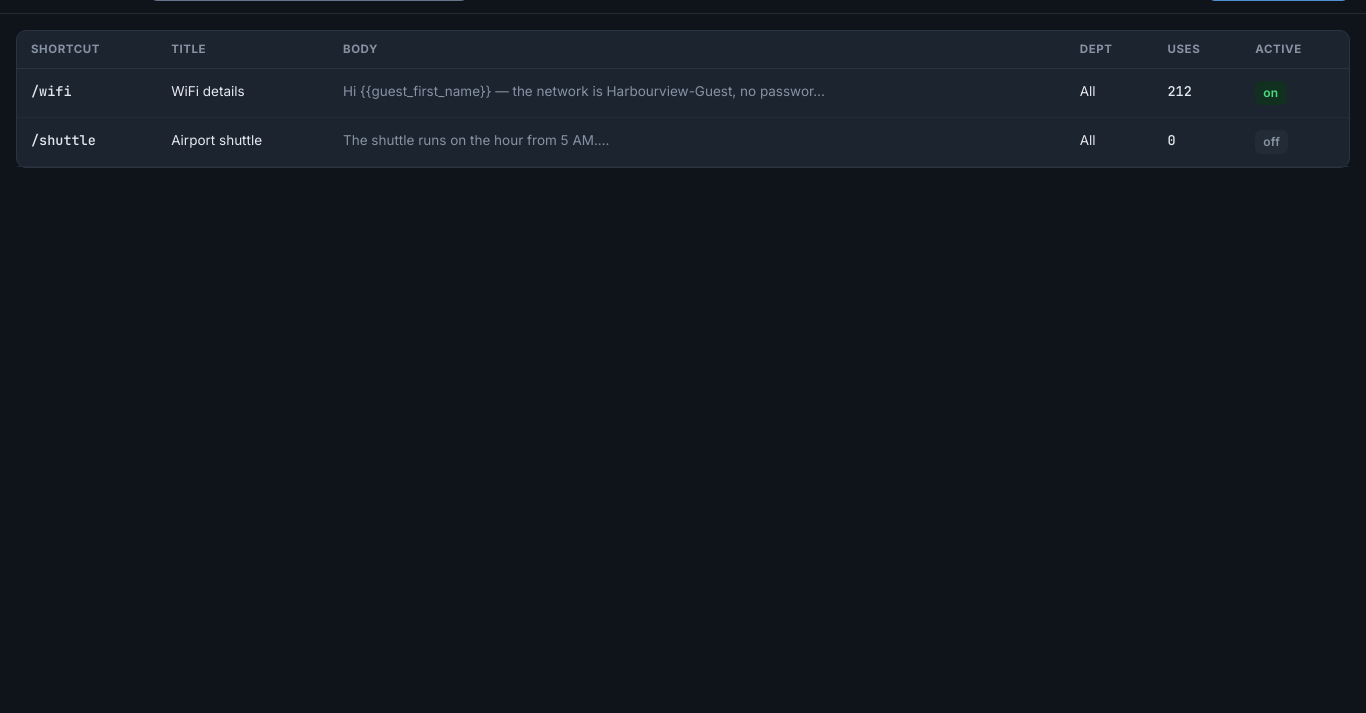
Test case: QuickRepliesAdmin › backs out of a delete on Keep
Click the text "WiFi details": (243, 93) [157,69,329,118]
(page scrolled)
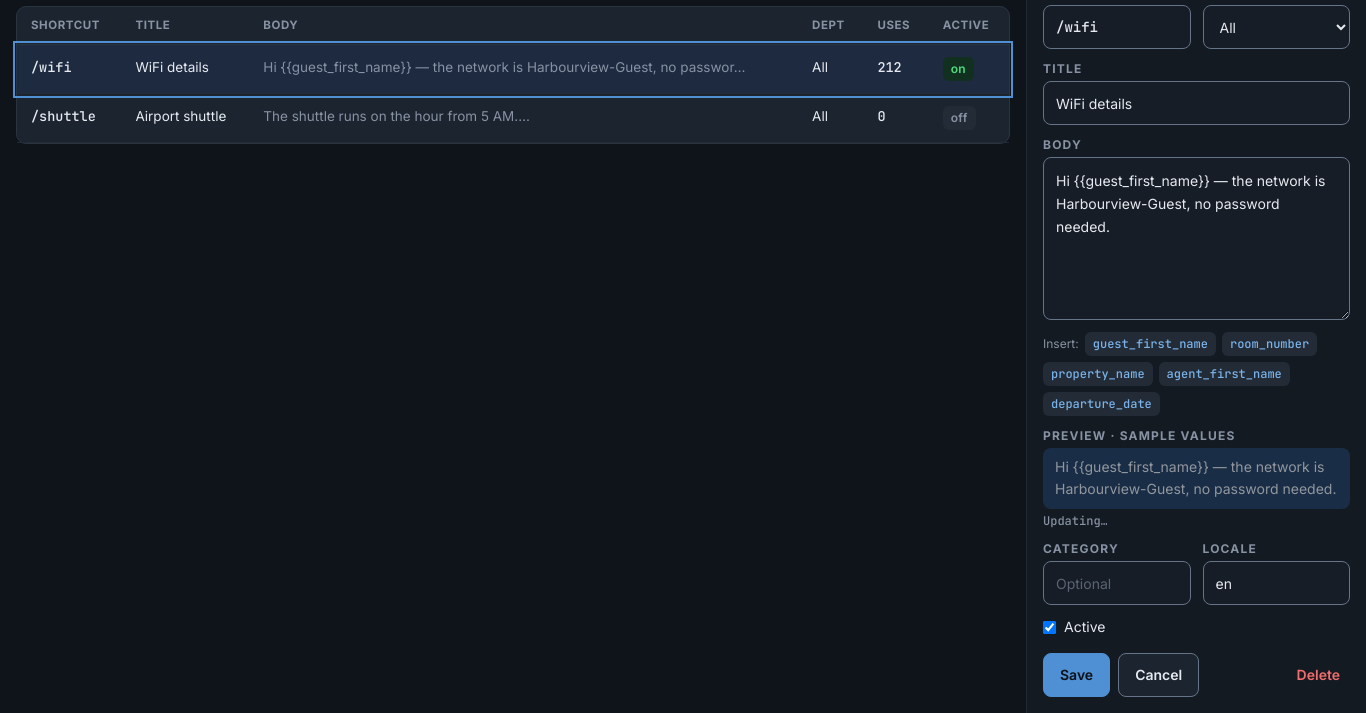
Click the button "Delete": (1318, 675) [1287,653,1350,697]
(page scrolled)
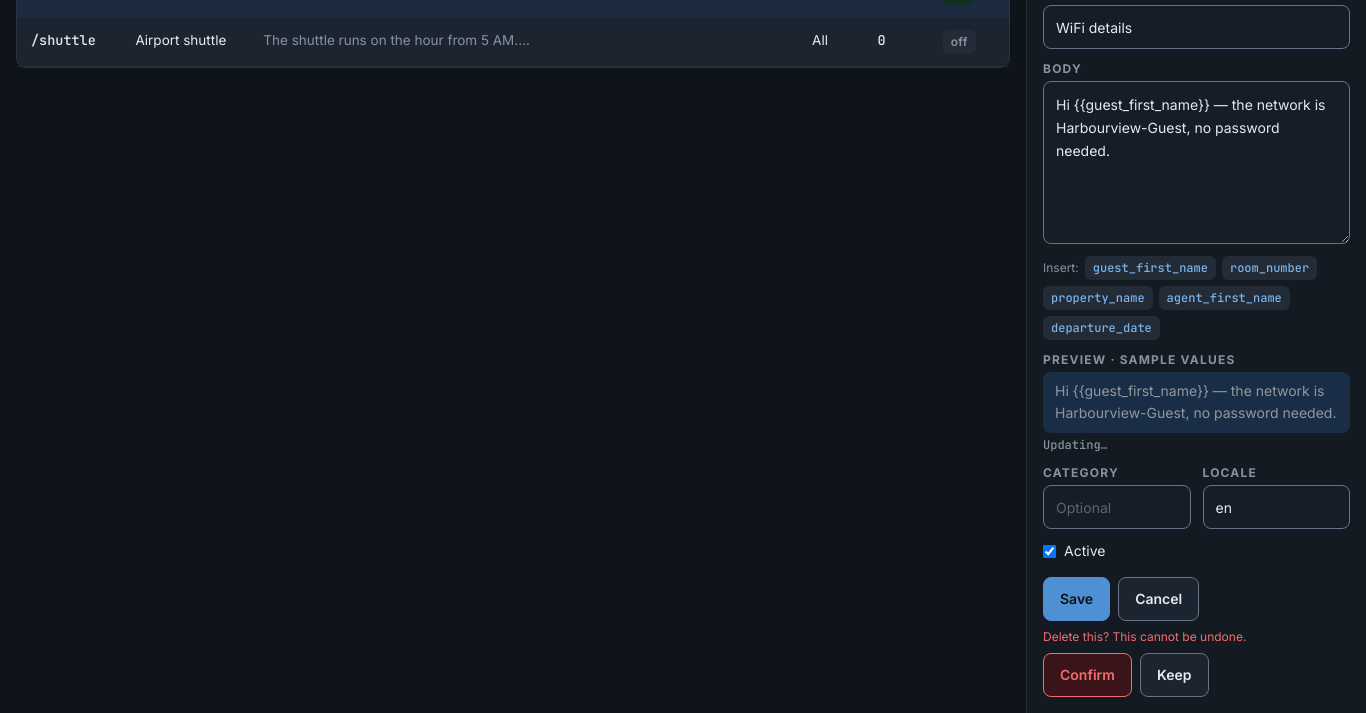
Click the button "Keep": (1174, 675) [1140,653,1208,697]
(page scrolled)
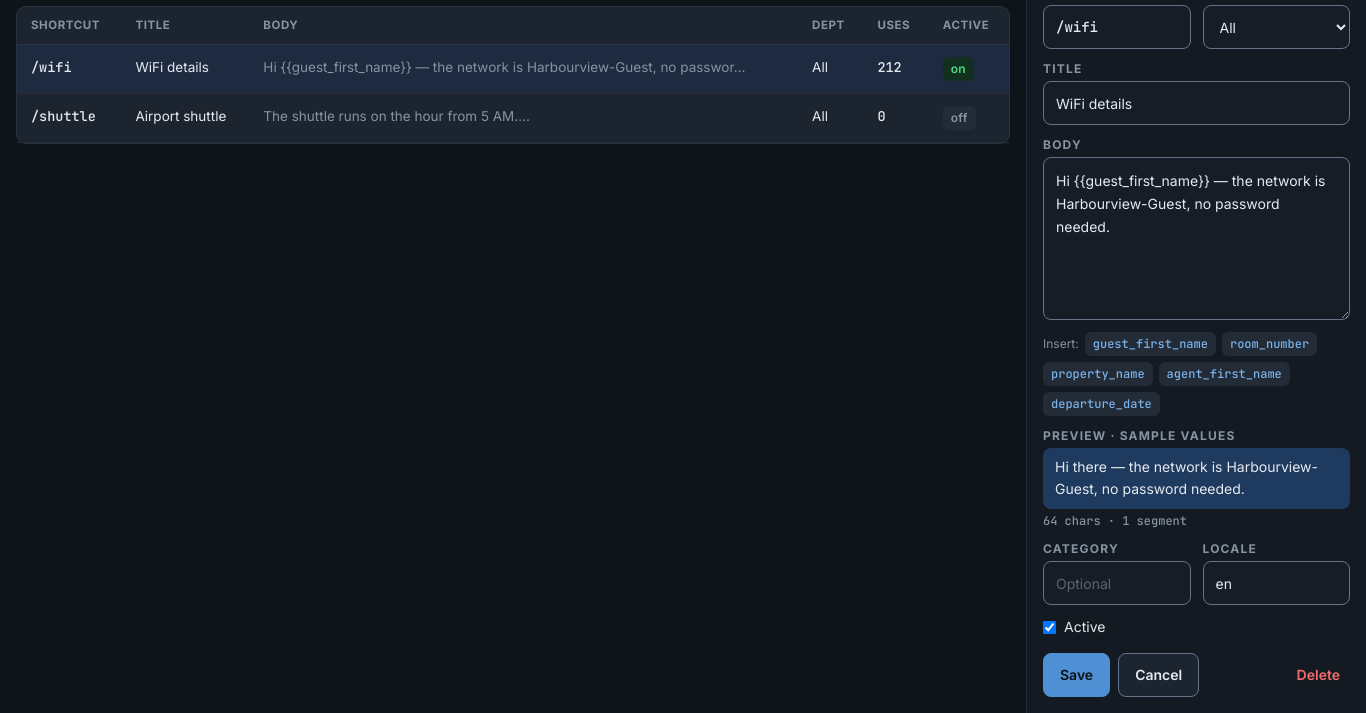
Result: the text "cannot be undone" is gone
